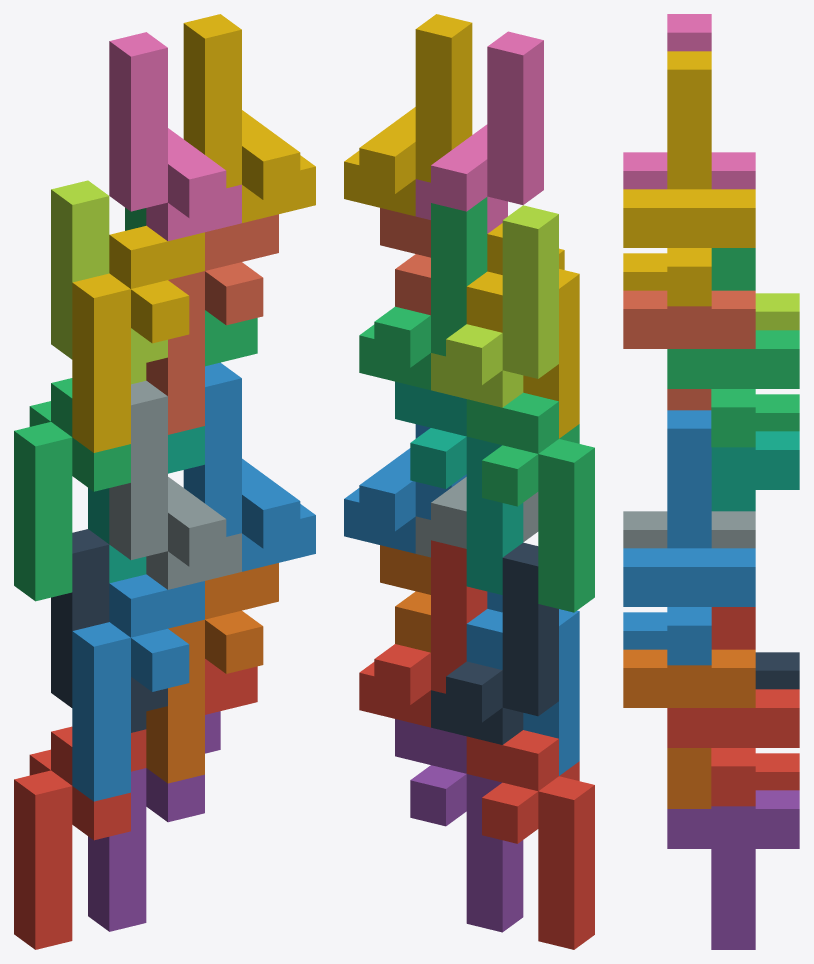
File: tiling.obj
The picture shows the model from 3 angles, left to right: view 1: azimuth 30°, elevation 25°; view 2: azimuth 150°, elevation 25°; view 3: azimuth 270°, elevation 25°; orthographic projection. The views are drawn at different scales.
Visible parts, largest first — view 1: copy_1_domain_2, copy_1_domain_4, copy_2_domain_4, copy_1_domain_1, copy_2_domain_8, copy_2_domain_2, copy_1_domain_3, copy_1_domain_6, copy_2_domain_6, copy_1_domain_8, copy_1_domain_5, copy_2_domain_3 (+4 smaller); view 2: copy_1_domain_1, copy_1_domain_3, copy_2_domain_3, copy_2_domain_4, copy_2_domain_8, copy_2_domain_1, copy_1_domain_5, copy_2_domain_7, copy_1_domain_7, copy_2_domain_5, copy_1_domain_4, copy_1_domain_2 (+4 smaller); view 3: copy_2_domain_6, copy_2_domain_8, copy_1_domain_5, copy_2_domain_5, copy_2_domain_7, copy_1_domain_6, copy_1_domain_8, copy_1_domain_7, copy_2_domain_4, copy_2_domain_2, copy_1_domain_2, copy_1_domain_4 (+4 smaller).
Part boxes in pixels (x1,y1,x2,y2): copy_1_domain_2: (72, 574, 204, 801); copy_1_domain_4: (72, 225, 204, 452); copy_2_domain_4: (109, 32, 241, 241); copy_1_domain_1: (14, 726, 146, 949); copy_2_domain_8: (183, 14, 315, 222); copy_2_domain_2: (109, 380, 241, 589); copy_1_domain_3: (14, 378, 130, 601); copy_1_domain_6: (146, 563, 278, 783); copy_2_domain_6: (183, 362, 315, 571); copy_1_domain_8: (146, 214, 278, 434); copy_1_domain_5: (88, 711, 220, 931); copy_2_domain_3: (51, 180, 167, 384); copy_1_domain_1: (466, 730, 594, 949); copy_1_domain_3: (466, 392, 594, 612); copy_2_domain_3: (431, 205, 558, 407); copy_2_domain_4: (415, 31, 543, 233); copy_2_domain_8: (344, 14, 472, 216); copy_2_domain_1: (431, 542, 558, 744); copy_1_domain_5: (395, 719, 523, 932); copy_2_domain_7: (359, 197, 487, 390); copy_1_domain_7: (395, 381, 523, 594); copy_2_domain_5: (359, 540, 487, 727); copy_1_domain_4: (466, 223, 579, 438); copy_1_domain_2: (466, 591, 579, 775); copy_2_domain_6: (623, 410, 755, 665); copy_2_domain_8: (623, 51, 755, 306); copy_1_domain_5: (667, 790, 799, 949); copy_2_domain_5: (667, 607, 799, 806); copy_2_domain_7: (667, 248, 799, 447); copy_1_domain_6: (623, 649, 755, 808); copy_1_domain_8: (623, 290, 755, 410); copy_1_domain_7: (711, 431, 799, 511); copy_2_domain_4: (623, 14, 755, 189); copy_2_domain_2: (623, 511, 755, 548); copy_1_domain_2: (623, 612, 667, 649); copy_1_domain_4: (623, 253, 667, 290).
Size of the model in its own units: 7 by 23 by 4.
